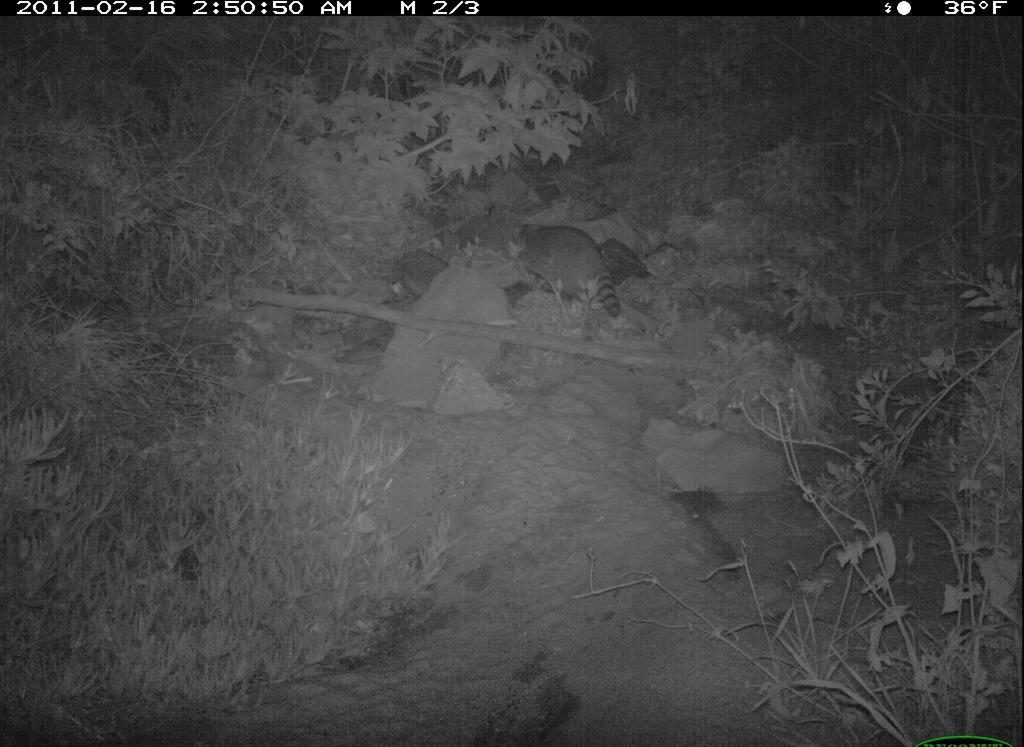raccoon: (491, 205, 634, 324)
